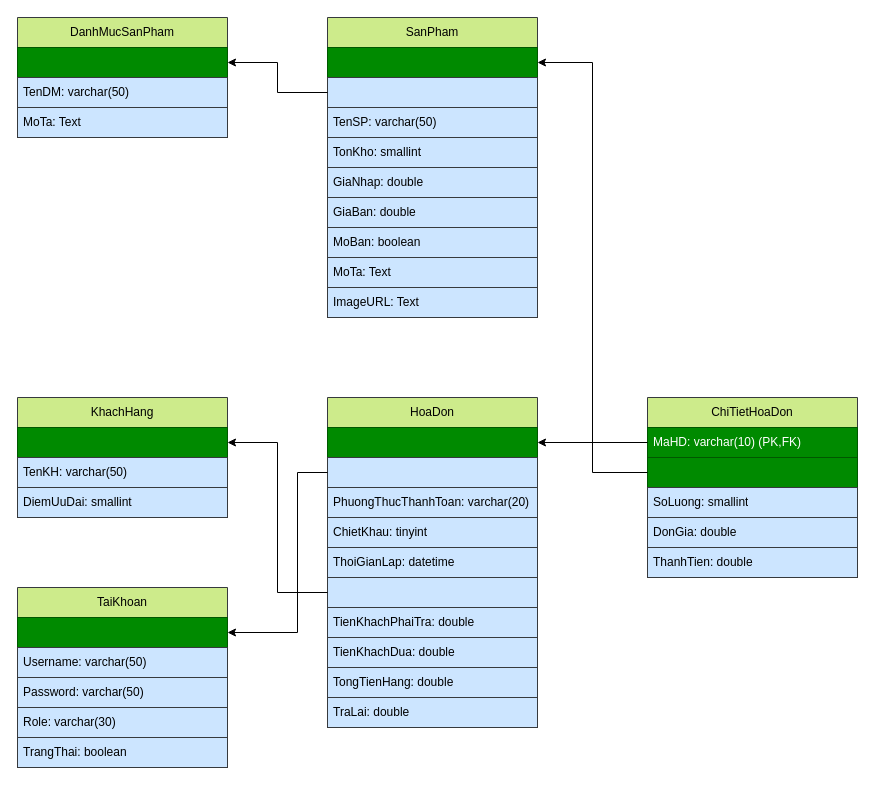
This 875x785 diagram has some shape labels left out. Each missing label, with the centre of its shape:
"MaDM: varchar(5) (FK)" belongs at (x=432, y=92).
"MaDM: varchar(5) (PK)" belongs at (x=122, y=62).
"MaHD: varchar(10) (PK)" belongs at (x=432, y=442).
"MaNV: varchar(5) (FK)" belongs at (x=432, y=472).
"MaNV: varchar(5) (PK)" belongs at (x=122, y=632).
"MaSP: varchar(7) (PK)" belongs at (x=432, y=62).
"MaSP: varchar(7) (PK,FK)" belongs at (x=752, y=472).
"SDT: varchar(12) (FK)" belongs at (x=432, y=592).
"SDT: varchar(12) (PK)" belongs at (x=122, y=442).
